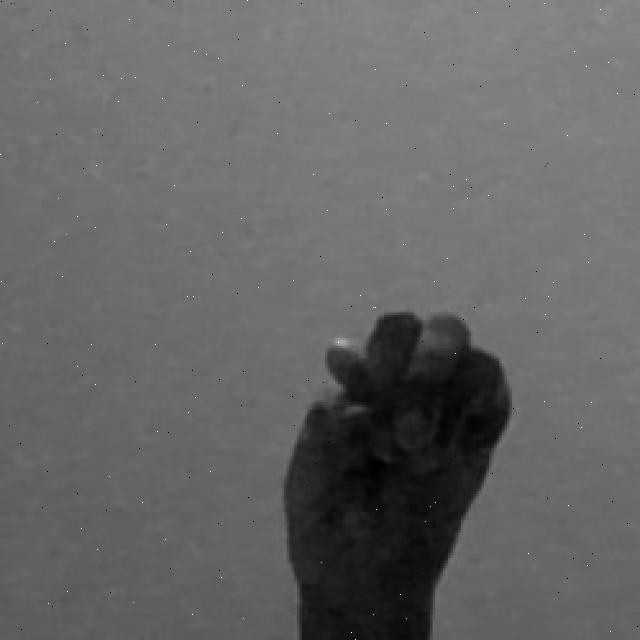M: (274, 302, 514, 640)
